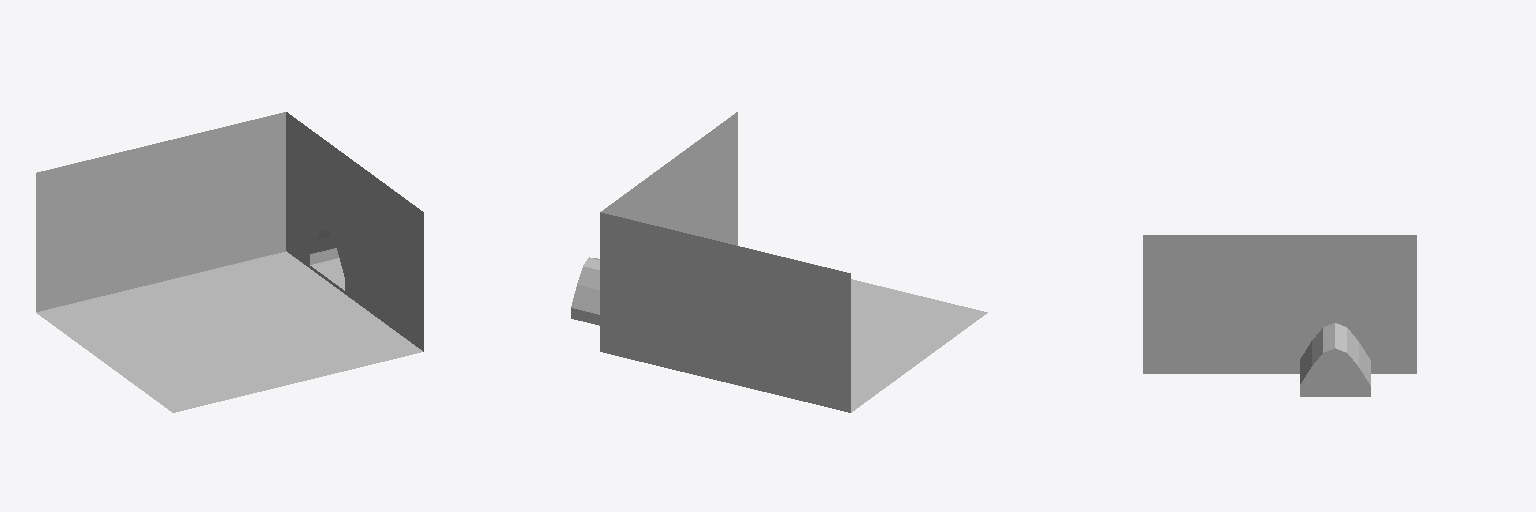
File: room.obj
3 views of the same model, side by side, from view 1: azimuth 30°, elevation 25°; view 2: azimuth 150°, elevation 25°; view 3: azimuth 270°, elevation 25° (orthographic).
Visible parts, largest first — view 1: Plane; view 2: Plane; view 3: Plane.
Boxes of the visible parts, x1=… form: Plane: x1=36, y1=112, x2=423, y2=412; Plane: x1=571, y1=112, x2=987, y2=412; Plane: x1=1143, y1=235, x2=1416, y2=396.
Bounding box in the file's own units: 41.24 × 18.15 × 32.35.